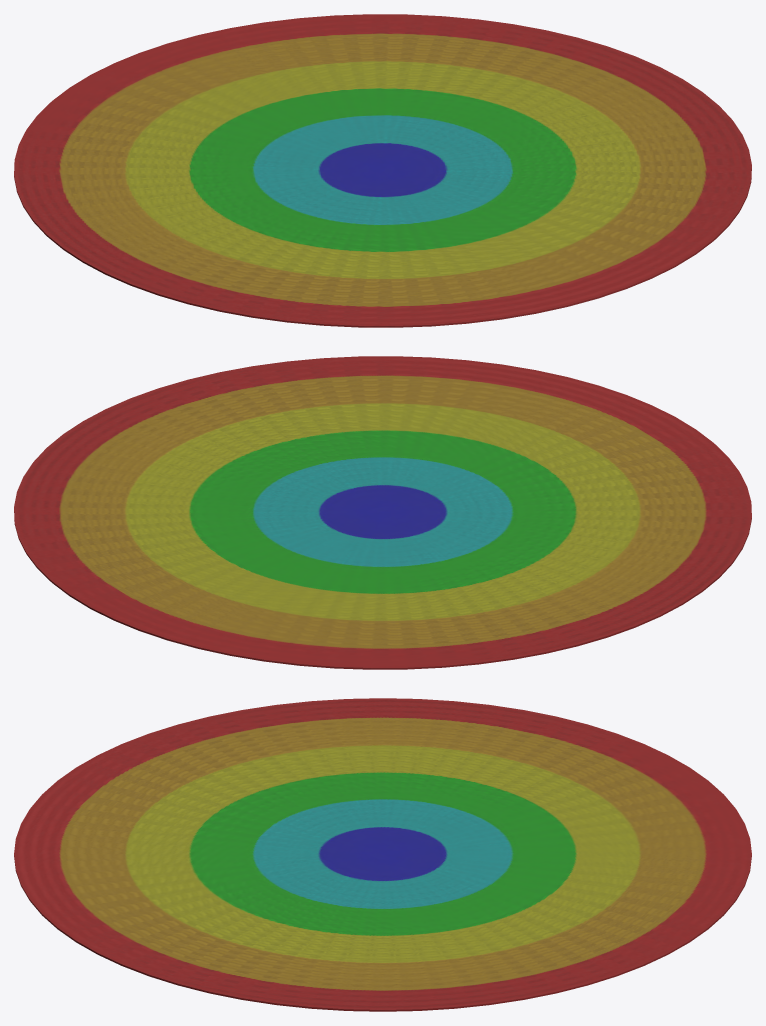
File: FloorMatRainbow.gltf
3 views of the same model, one above another, from view 1: azimuth 30°, elevation 25°; view 2: azimuth 150°, elevation 25°; view 3: azimuth 270°, elevation 25° (orthographic).
Parts seen in each view (by area): view 1: FloorMat; view 2: FloorMat; view 3: FloorMat.
Boxes of the visible parts, x1,y1,x2,y2 form: FloorMat: [14, 14, 751, 327]; FloorMat: [14, 356, 751, 669]; FloorMat: [14, 698, 751, 1011].
Size of the model in its own units: 1.75 by 0.00437 by 1.75.
1 material, 1 textured.
